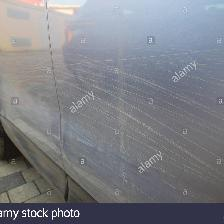scrach: (78, 52, 157, 128)
